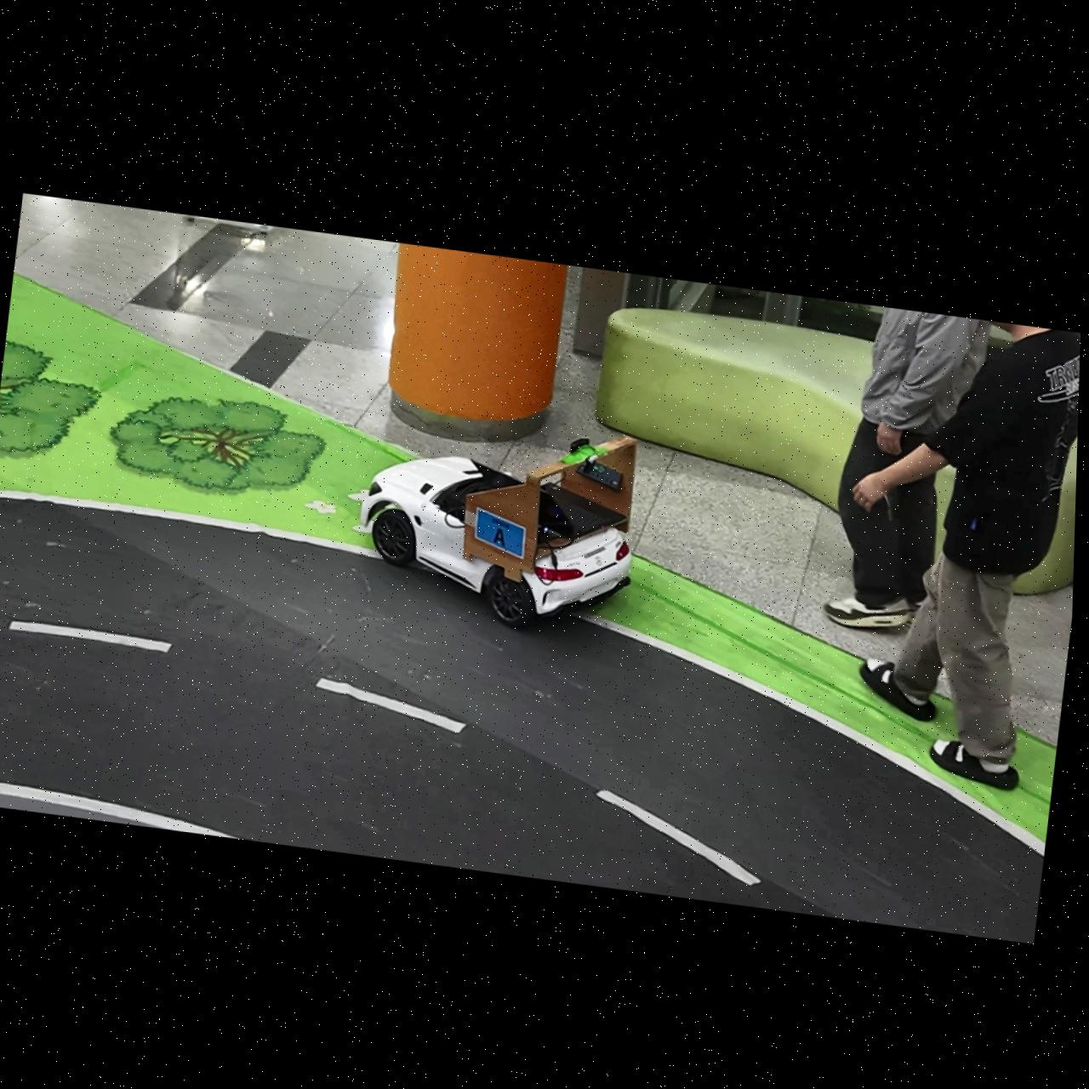broken_line: (596, 789, 762, 886), (316, 678, 466, 733), (8, 621, 172, 652)
